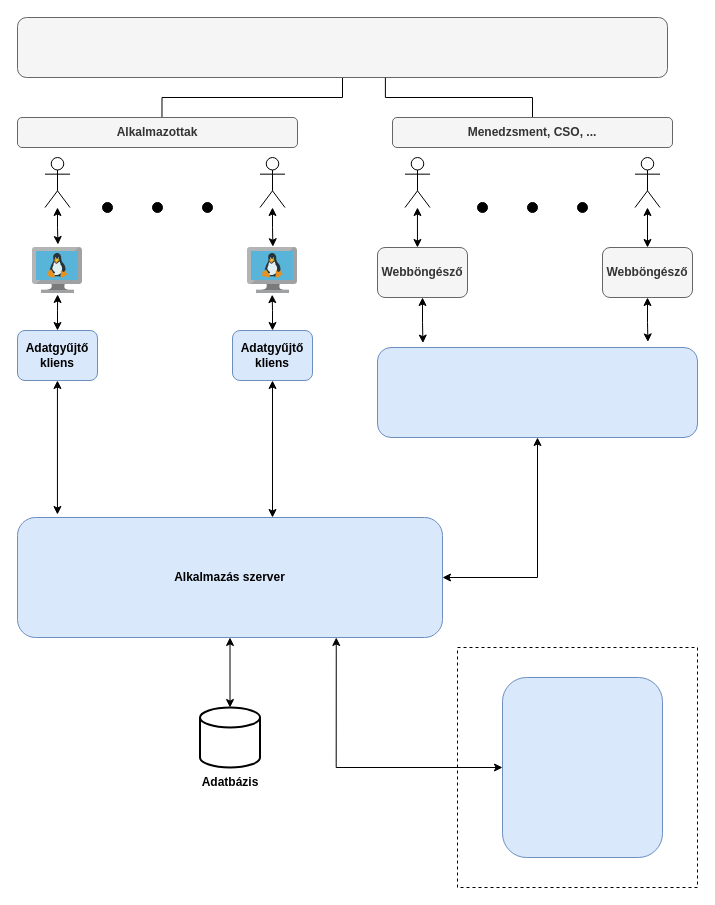
Some shapes in this 715 by 905 pixel diagram are drawn without their labels. The shapes that lost their labels are listed below. From the top down, each one's centre as x and y in pixels, then its label:
At pixel 342 47: "Vállalat".
At pixel 537 392: "Webes vékonykliens".
At pixel 582 767: "Kiértékelő szoftver".
